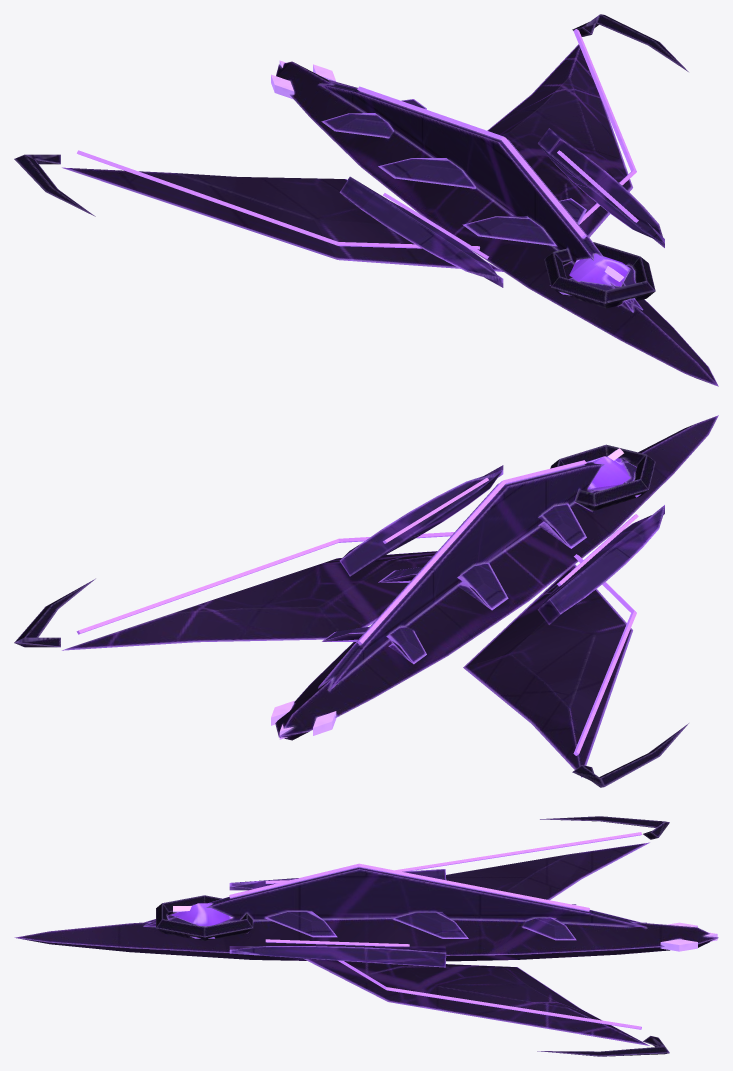
Rendered from void.glb.
3 renders of one model, top to bottom at view 1: azimuth 30°, elevation 25°; view 2: azimuth 150°, elevation 25°; view 3: azimuth 270°, elevation 25°, orthographic. The views are drawn at different scales.
Parts seen in each view (by area): view 1: Void, vane_r, vane_l, eye; view 2: Void, vane_r, vane_l, eye; view 3: Void, vane_l, eye, vane_r.
Boxes of the visible parts, <box> form: Void: <box>14,14,718,386</box>; vane_r: <box>339,176,503,287</box>; vane_l: <box>538,128,664,247</box>; eye: <box>569,253,630,286</box>; Void: <box>14,415,718,787</box>; vane_r: <box>538,505,664,624</box>; vane_l: <box>339,465,503,576</box>; eye: <box>586,448,630,489</box>; Void: <box>14,816,718,1056</box>; vane_l: <box>229,939,446,967</box>; eye: <box>172,903,232,926</box>; vane_r: <box>229,869,446,890</box>.
Bounding box in the file's own units: 0.711 × 0.1366 × 0.882.
5 materials, 5 textured.
